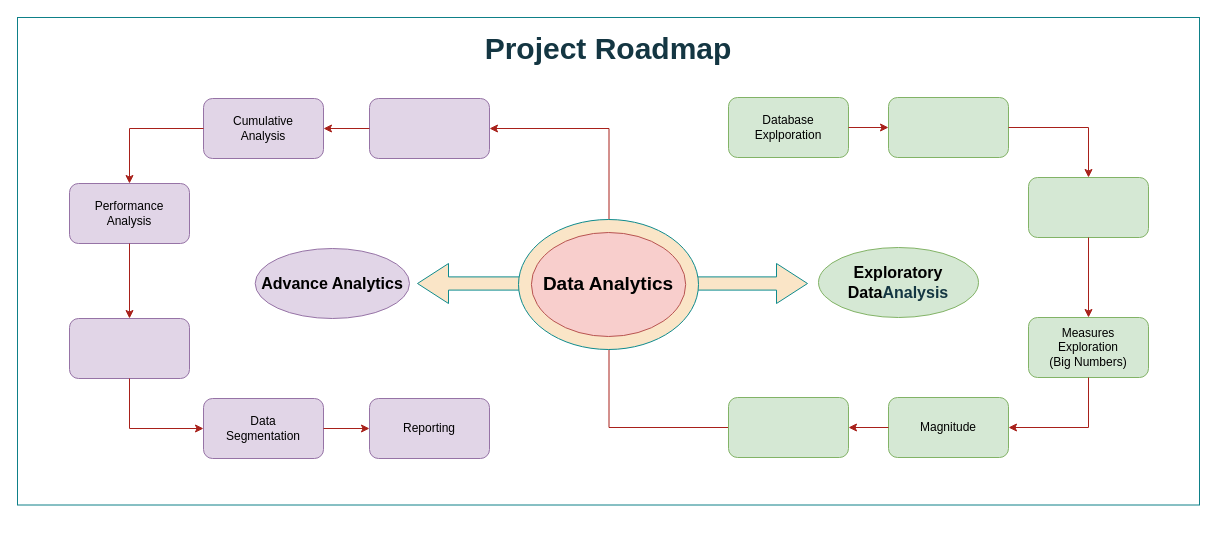
The diagram is 1217 pixels wide and 536 high, and some of its shapes have lost their labels. Each missing label, with the centre of its shape:
"CHange Over Time (Trends)" goes at pixel 429 128.
"Data Exploration" goes at pixel 1088 207.
"DImention Exploration" goes at pixel 948 127.
"Part-To-Whole (Proportional)" goes at pixel 129 348.
"Ranking (Top N - Bottom N)" goes at pixel 788 427.
